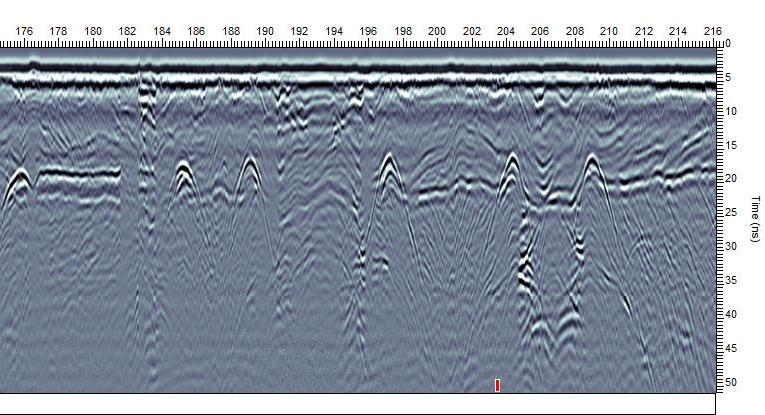Hyperbola: (163, 151, 204, 210), (576, 136, 611, 199), (236, 146, 268, 209), (489, 141, 530, 187), (368, 146, 404, 196), (2, 156, 37, 199), (211, 149, 231, 186), (698, 92, 712, 121)
